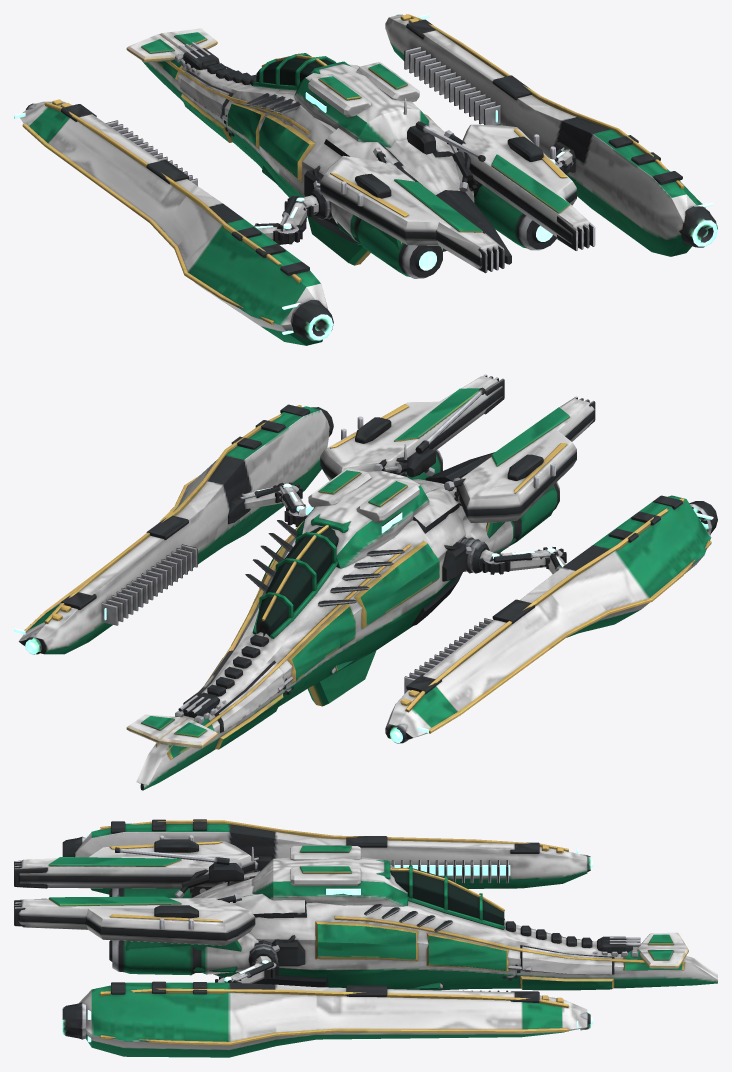
The model's file is elyza_fighter_v2.glb.
3 views of the same model, one above another, from view 1: azimuth 30°, elevation 25°; view 2: azimuth 150°, elevation 25°; view 3: azimuth 270°, elevation 25° (orthographic). The views are drawn at different scales.
Parts seen in each view (by area): view 1: Body, WingL, WingR; view 2: Body, WingL, WingR; view 3: Body, WingR, WingL.
Part boxes in pixels (box(x1,y1,x2,y2)): Body: box(126, 28, 595, 278); WingL: box(14, 99, 333, 345); WingR: box(385, 14, 717, 256); Body: box(126, 374, 595, 790); WingL: box(385, 495, 717, 743); WingR: box(14, 404, 333, 654); Body: box(14, 835, 717, 990); WingR: box(62, 956, 593, 1057); WingL: box(62, 819, 593, 894).
Bounding box in the file's own units: 8.15 × 3.35 × 12.
Materials: 1 (1 with a texture image).
